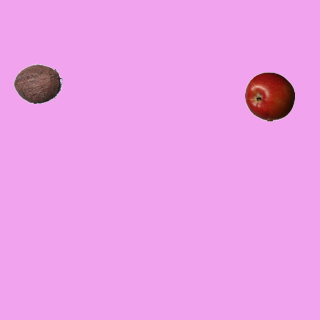Apple Braeburn: (244, 71, 294, 121)
Cocos: (12, 58, 62, 108)
